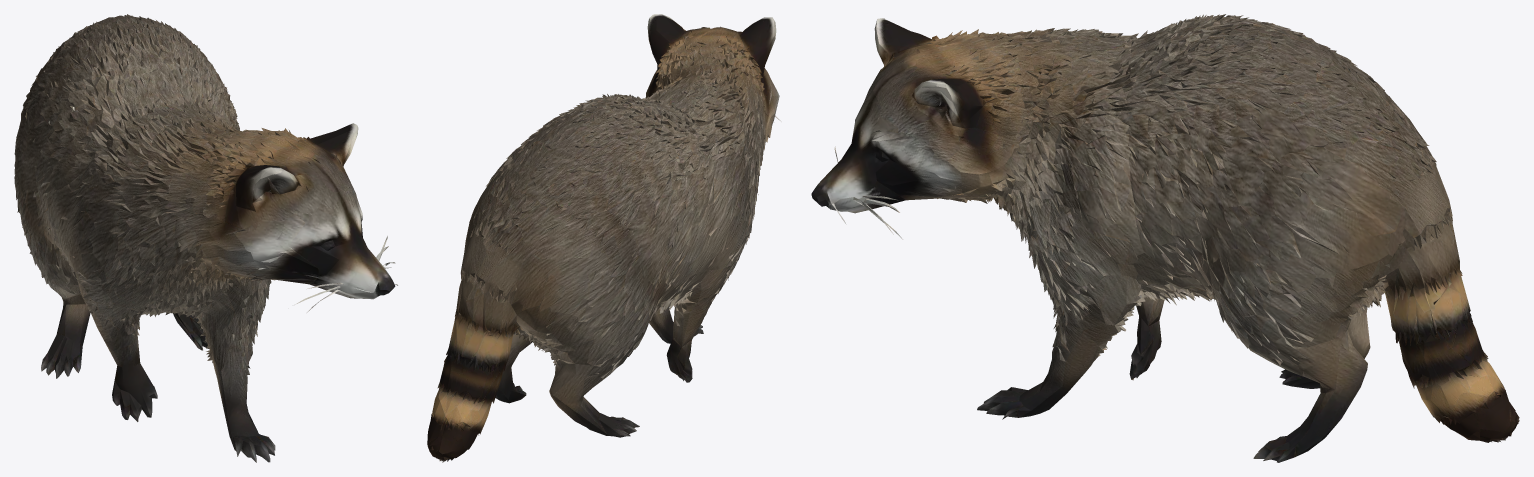
Rendered from northern-raccoon.glb.
3 renders of one model, left to right at view 1: azimuth 30°, elevation 25°; view 2: azimuth 150°, elevation 25°; view 3: azimuth 270°, elevation 25°, orthographic. The views are drawn at different scales.
Size of the model in its own units: 0.7438 by 1.13 by 1.9.
Materials: 1 (1 with a texture image).
